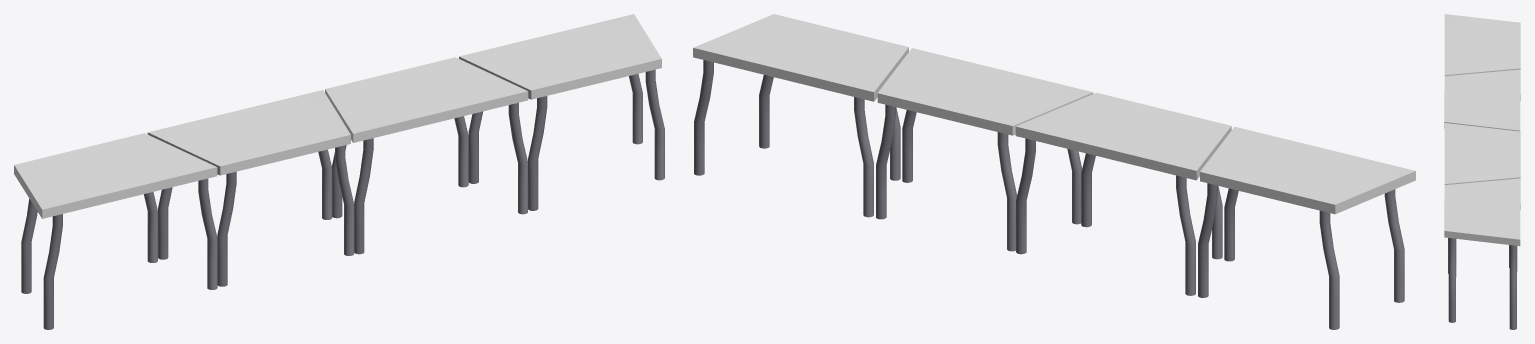
The model's file is Fila_Mesas.obj.
The picture shows the model from 3 angles, left to right: view 1: azimuth 30°, elevation 25°; view 2: azimuth 150°, elevation 25°; view 3: azimuth 270°, elevation 25°; orthographic projection. The views are drawn at different scales.
Visible parts, largest first — view 1: Box001, Box003, Box002, Box004, Tube011, Tube003, Tube005, Tube013, Tube002, Tube015, Tube008, Tube010 (+8 smaller); view 2: Box001, Box004, Box002, Box003, Tube004, Tube006, Tube014, Tube007, Tube016, Tube009, Tube001, Tube003 (+8 smaller); view 3: Box004, Box003, Box001, Box002, Tube015, Tube016.
Part boxes in pixels (x1,y1,x2,y2): Box001: (14,133,217,218); Box003: (325,57,528,142); Box002: (147,90,350,175); Box004: (459,14,661,99); Tube011: (354,138,373,254); Tube003: (43,214,62,329); Tube005: (217,171,236,286); Tube013: (528,96,547,210); Tube002: (198,178,217,289); Tube015: (645,69,664,180); Tube008: (335,145,354,255); Tube010: (508,102,527,214); Box001: (1200,126,1415,214); Box004: (693,14,908,101); Box002: (1015,92,1231,180); Box003: (877,48,1093,135); Tube004: (1319,210,1339,329); Tube006: (1176,175,1195,295); Tube014: (854,97,873,217); Tube007: (1016,138,1035,254); Tube016: (694,60,713,175); Tube009: (876,104,895,219); Tube001: (1198,183,1217,297); Tube003: (1384,189,1404,302); Box004: (1444,178,1520,246); Box003: (1444,123,1520,184); Box001: (1444,14,1520,76); Box002: (1444,69,1520,131); Tube015: (1448,238,1456,322); Tube016: (1509,245,1516,329).
Bounding box in the file's own units: 73.36 × 13.46 × 10.45.
Materials: 2 (2 with a texture image).
